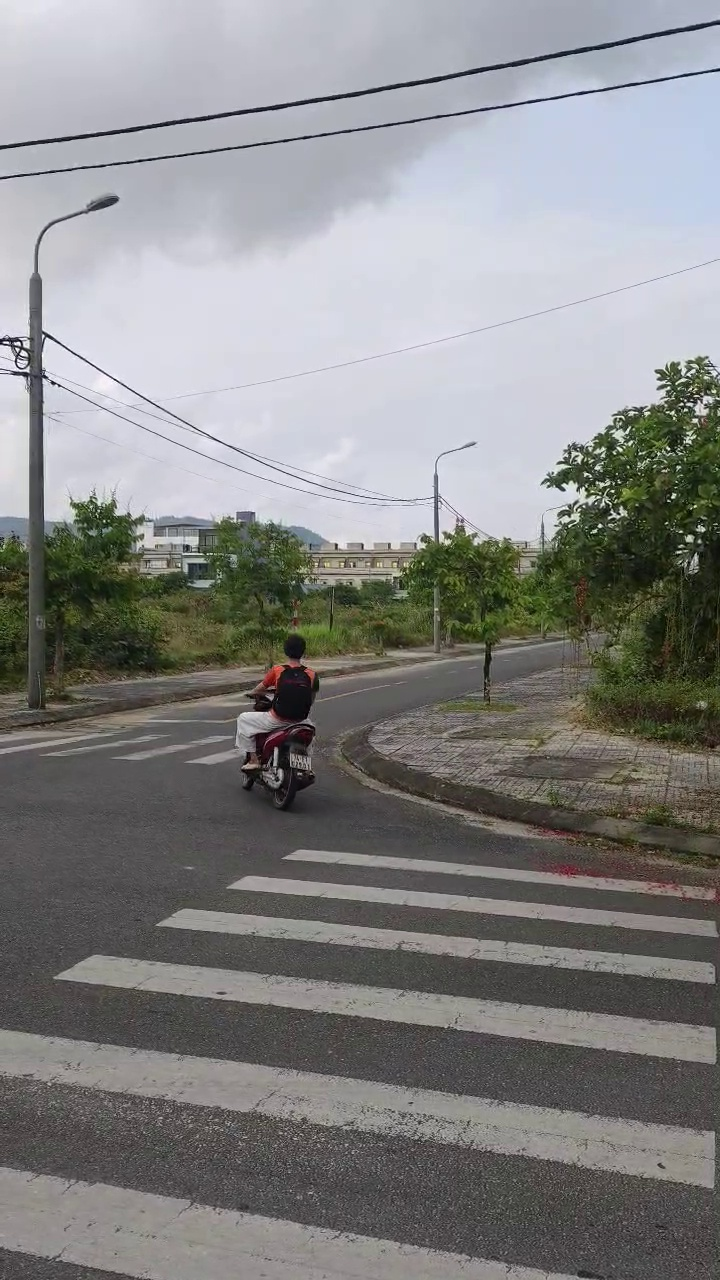no_helmet: (281, 632, 308, 676)
